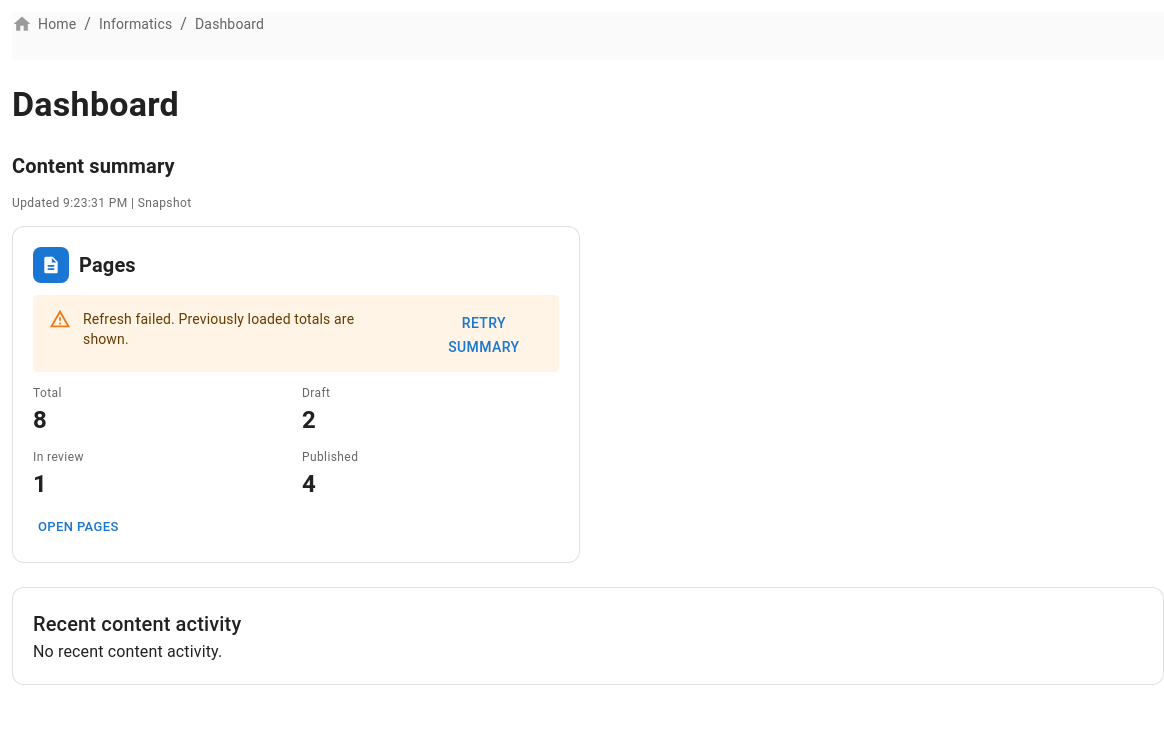
retains prior values on transient refresh error and retries without blanking
The width and height of the screenshot is (1164, 732).
Expected: the text "Refresh failed. Previously loaded totals are shown." is shown, x1=83 y1=311 x2=354 y2=347
Expected: the text "8" is shown, x1=33 y1=406 x2=47 y2=434
Step 1. Click the button "Retry summary" → point(484, 335), box x1=417 y1=305 x2=551 y2=366
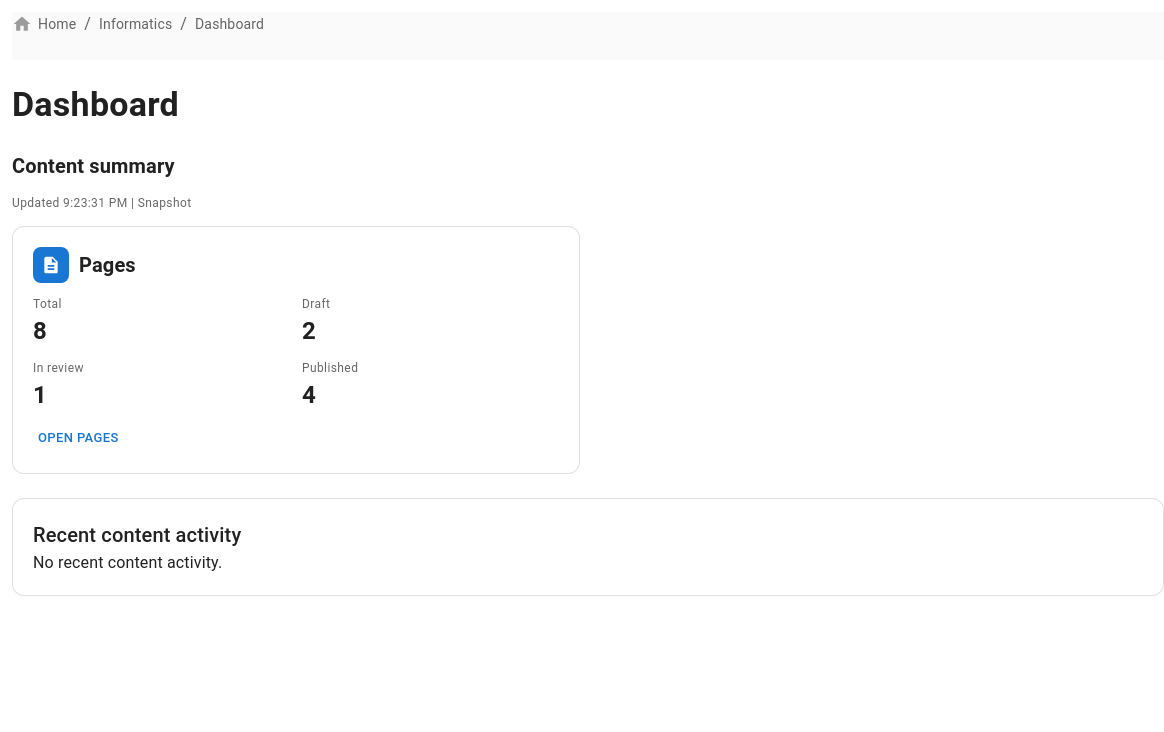
Now the text "Refresh failed. Previously loaded totals are shown." is gone
